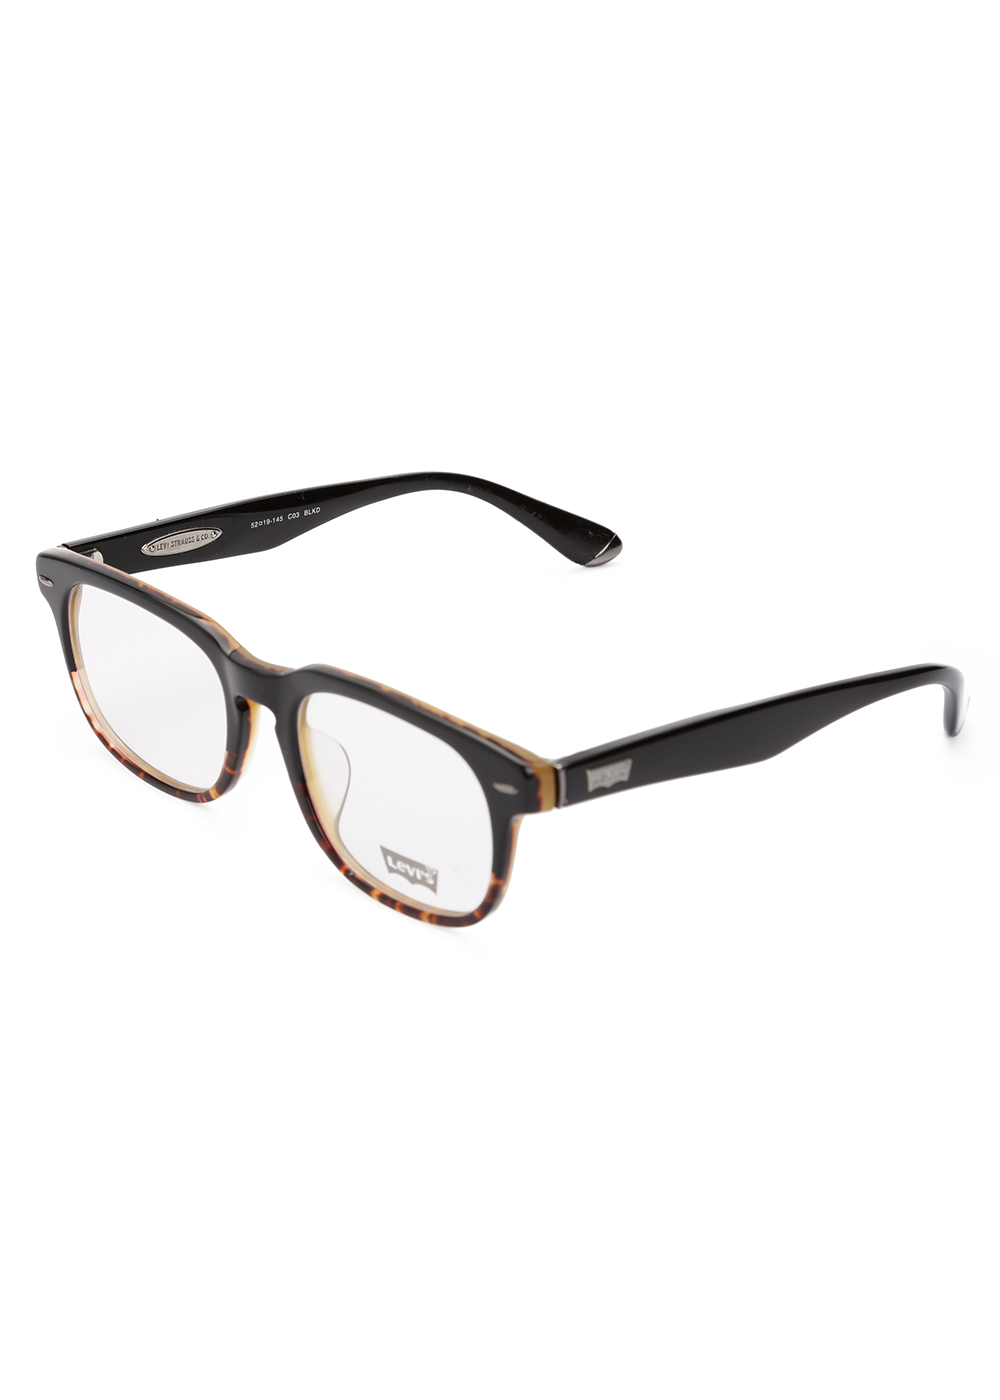Levi's: (369, 835, 452, 903)
